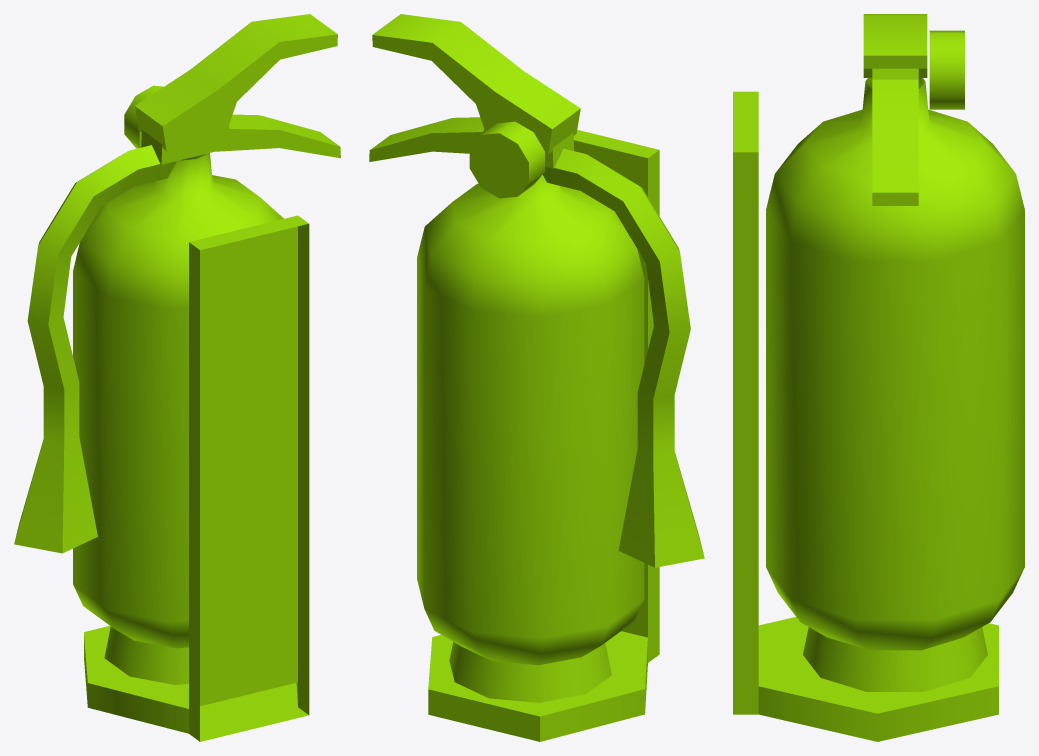
The model's file is Asset_All_5.fbx.
The picture shows the model from 3 angles, left to right: view 1: azimuth 30°, elevation 25°; view 2: azimuth 150°, elevation 25°; view 3: azimuth 270°, elevation 25°; orthographic projection. The views are drawn at different scales.
Visible parts, largest first — view 1: Asset_All_5; view 2: Asset_All_5; view 3: Asset_All_5.
Boxes of the visible parts, x1,y1,x2,y2 form: Asset_All_5: (14, 14, 340, 741); Asset_All_5: (369, 14, 704, 741); Asset_All_5: (733, 14, 1024, 741).
Bounding box in the file's own units: 25.36 × 47.81 × 17.7.
